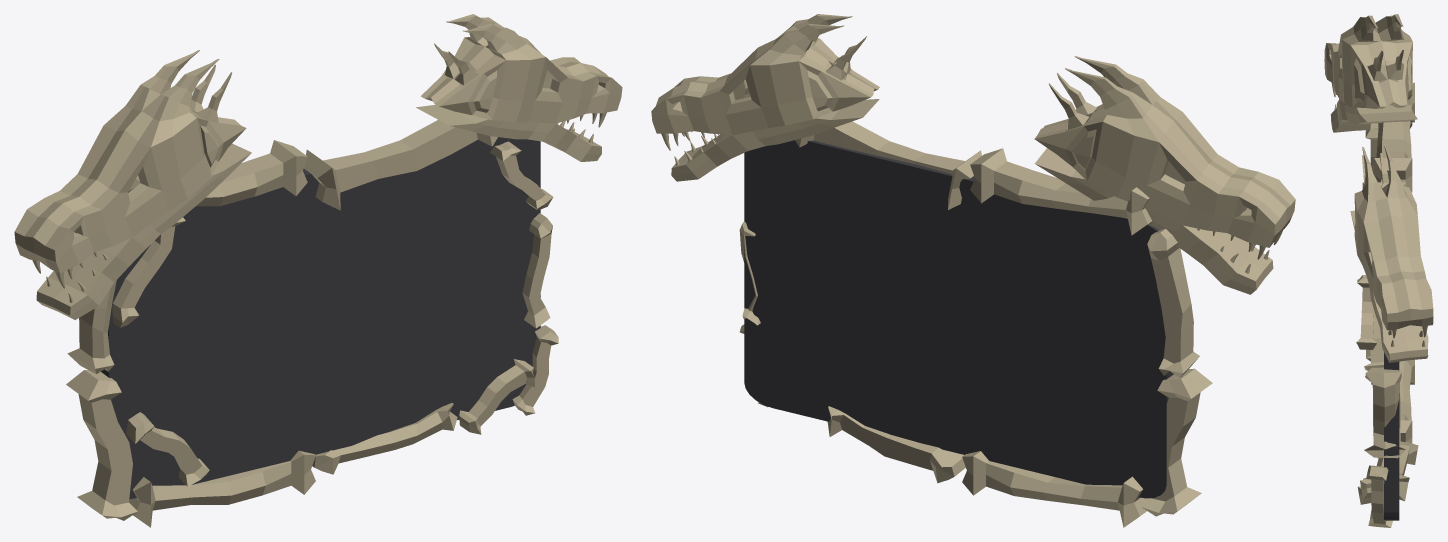
The model's file is DinoPanel-Ads.gltf.
3 views of the same model, side by side, from view 1: azimuth 30°, elevation 25°; view 2: azimuth 150°, elevation 25°; view 3: azimuth 270°, elevation 25° (orthographic). The views are drawn at different scales.
Parts seen in each view (by area): view 1: DinoPanel-Ads; view 2: DinoPanel-Ads; view 3: DinoPanel-Ads.
Part boxes in pixels (x1,y1,x2,y2): DinoPanel-Ads: (14,14,622,527); DinoPanel-Ads: (651,14,1295,527); DinoPanel-Ads: (1324,14,1433,527).
Bounding box in the file's own units: 684 × 484 × 122.
